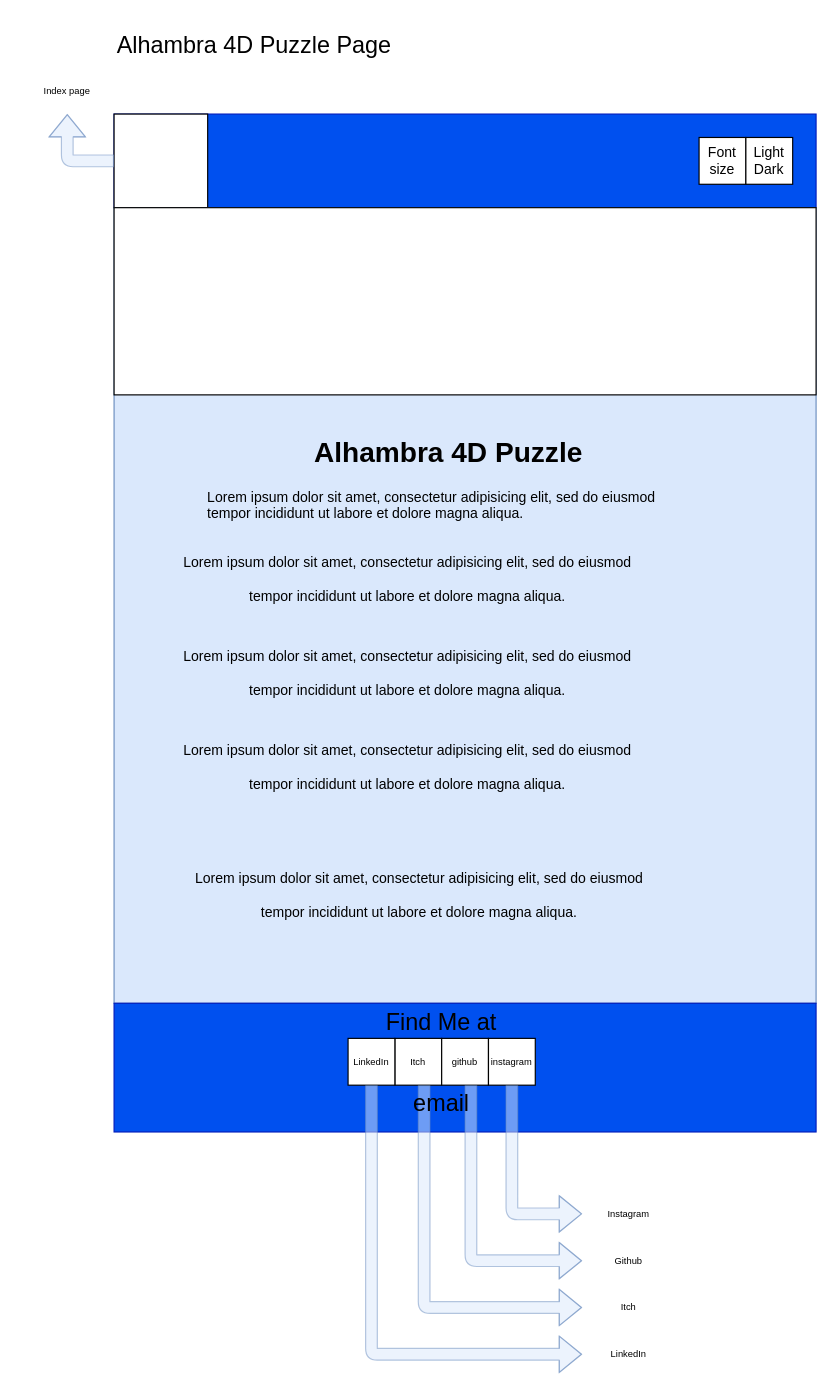
The diagram is 837 pixels wide and 1397 high, and some of its shapes have lost their labels. The shapes that lost their labels are listed below. From the top down, each one's box as (x1, y1, x2, y2) in pixels, then its label:
(113, 113, 208, 208): Home
(113, 113, 816, 208): Header
(113, 207, 816, 395): Image
